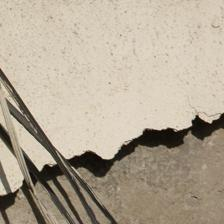Crack: (2, 110, 224, 202)
